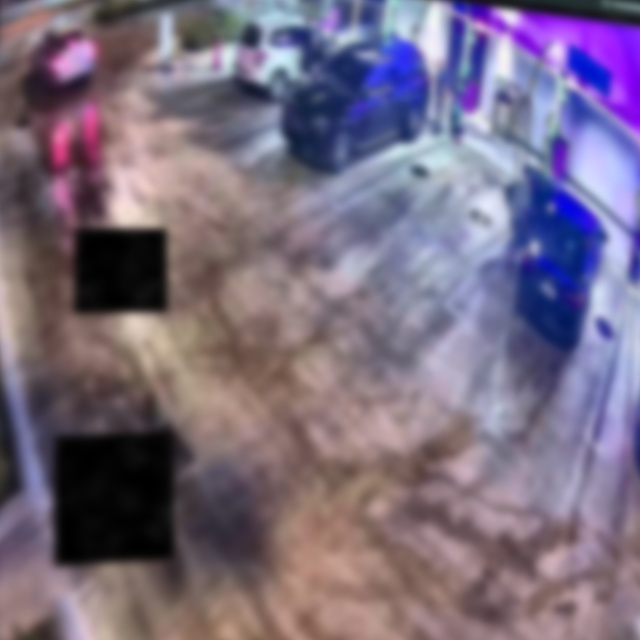Car: (273, 27, 439, 180)
